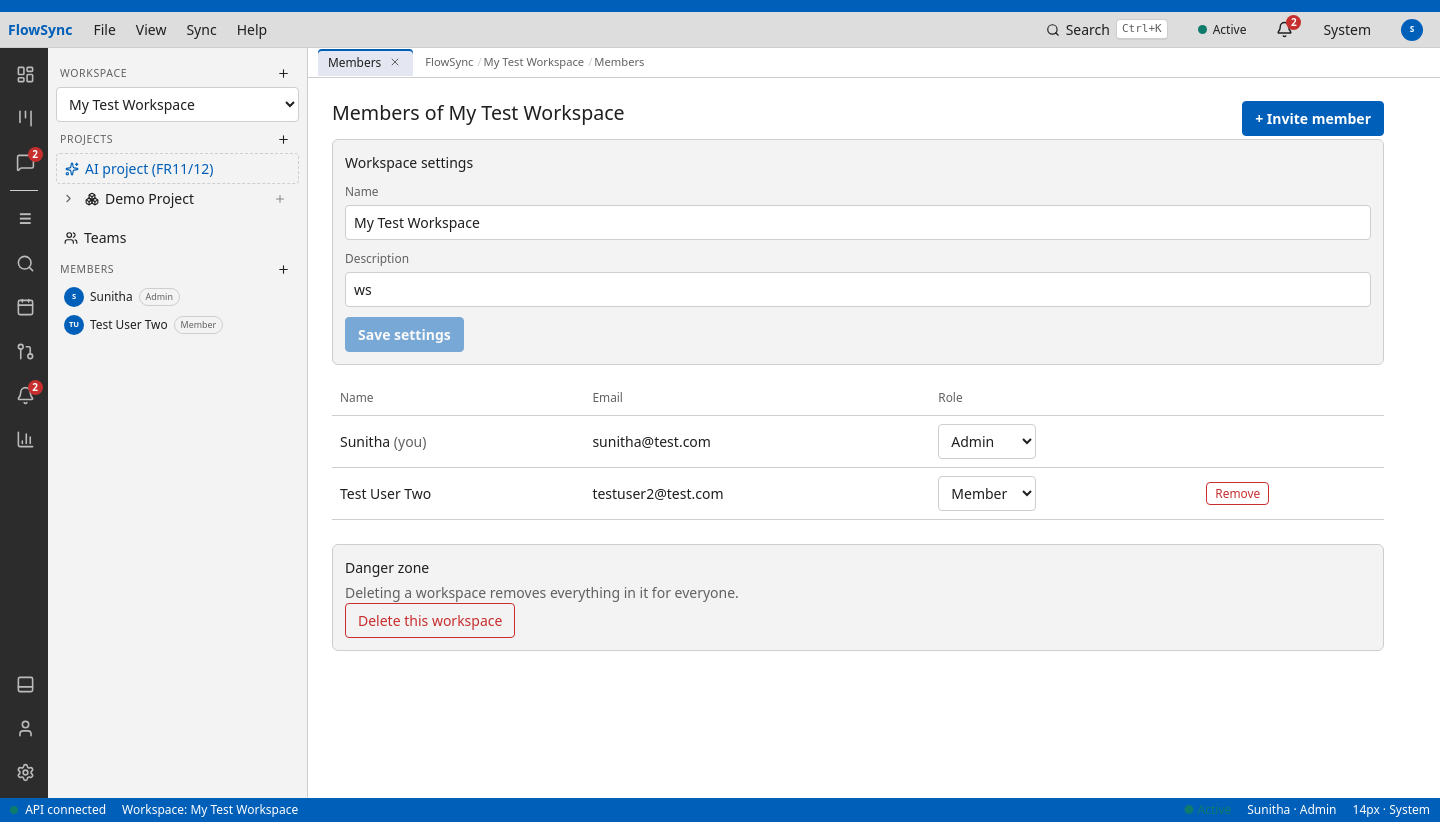
FR2: workspace settings, roles and delete › an Admin renames the workspace and changes its description
The image size is (1440, 822).
Expected: the button "Save settings" is disabled, [345,317,464,352]
Replace the text in the field labelled "Name" with "Renamed Space". click: (858, 223)
box: [345,205,1371,240]
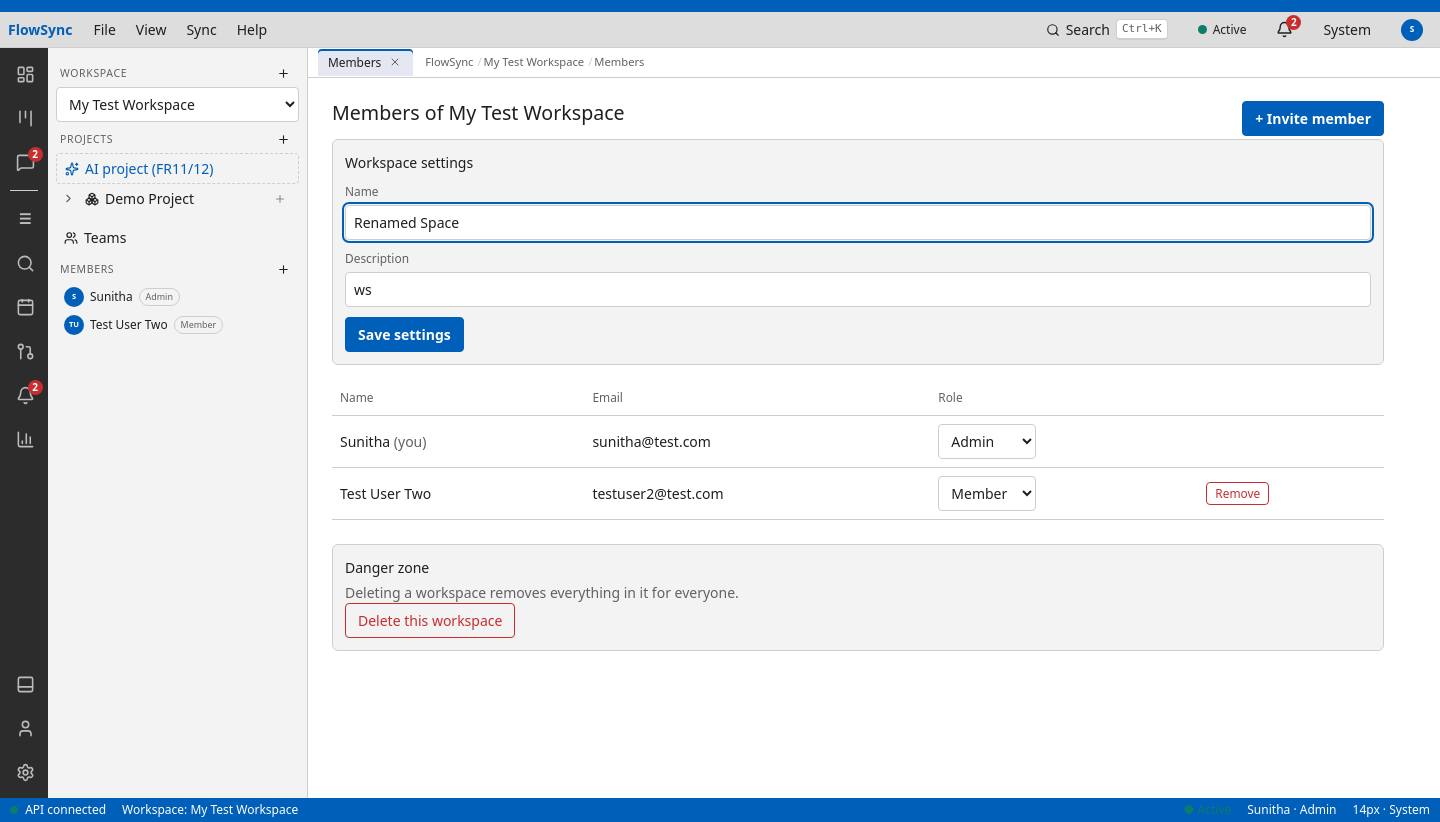
Replace the text in the field labelled "Description" with "new words". click: (858, 290)
box: [345,272,1371,307]
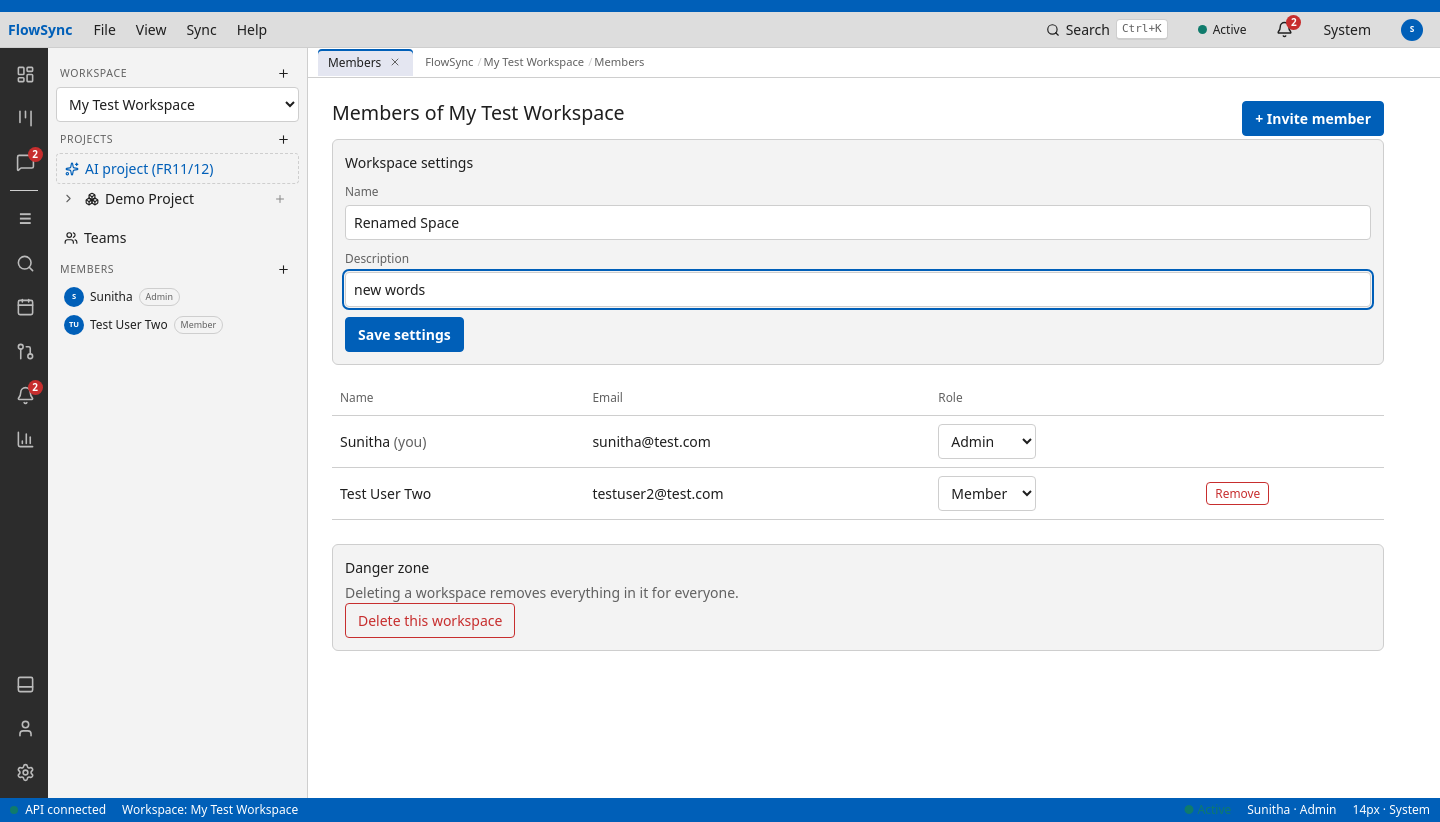
Click the button "Save settings". click: (404, 335)
box: [345,317,464,352]
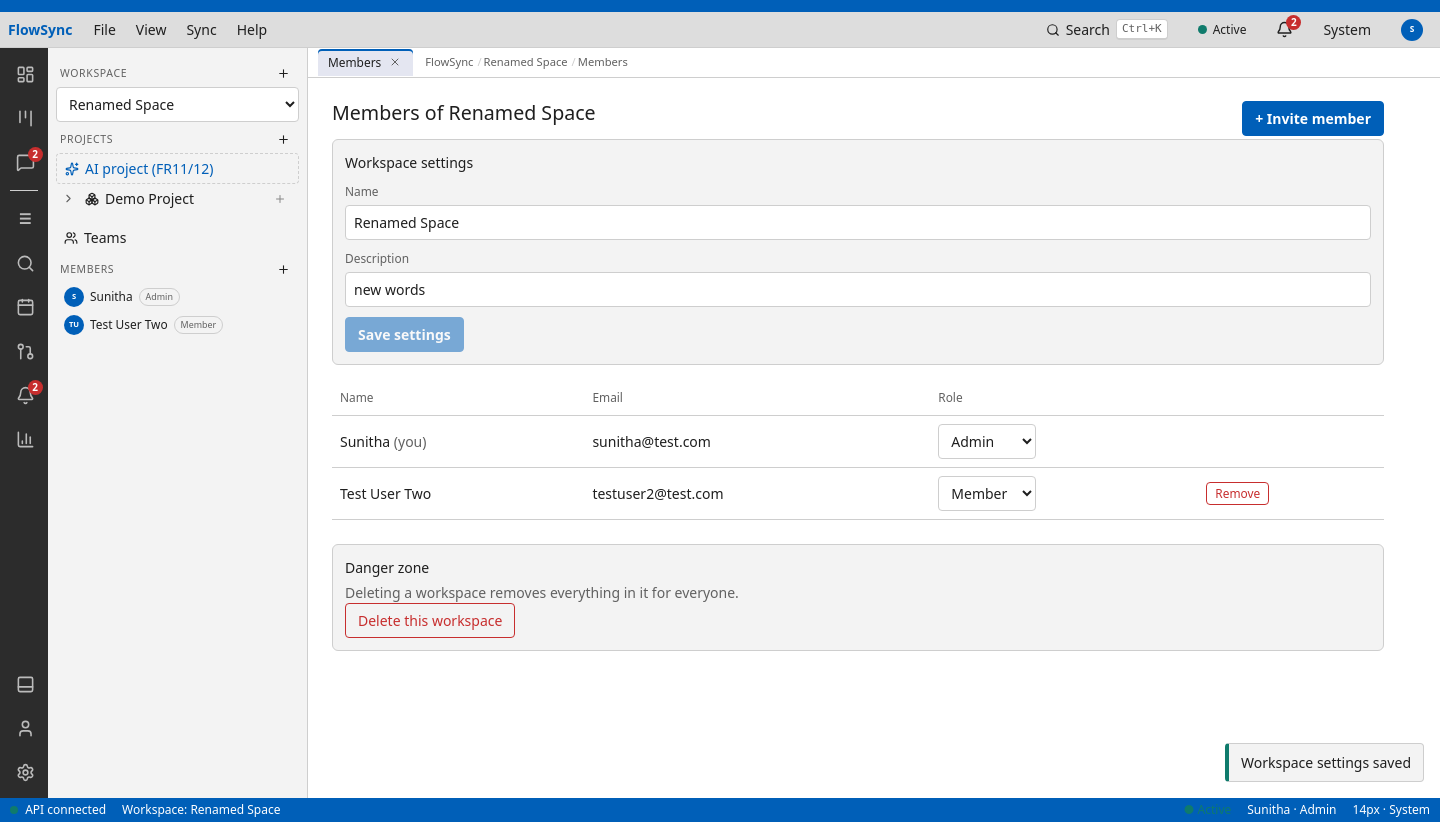
Result: the heading "Members of Renamed Space" is shown at [332,98,596,127]
Result: the text "Workspace settings saved" is shown at [1225,743,1424,782]
